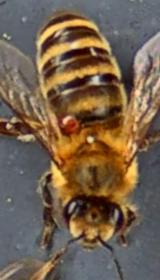varroa_mite: (54, 108, 81, 138)
